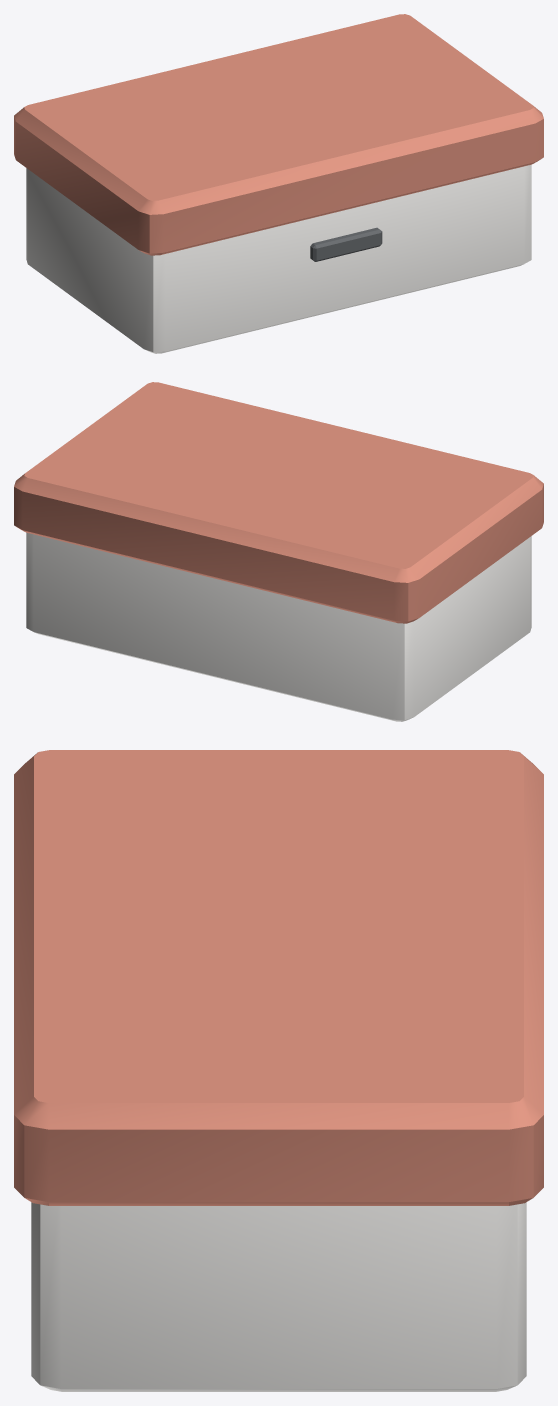
The picture shows the model from 3 angles, top to bottom: view 1: azimuth 30°, elevation 25°; view 2: azimuth 150°, elevation 25°; view 3: azimuth 270°, elevation 25°; orthographic projection. The views are drawn at different scales.
Visible parts, largest first — view 1: shoe-box; view 2: shoe-box; view 3: shoe-box.
Part boxes in pixels (<box>): shoe-box: <box>14,14,543,353</box>; shoe-box: <box>14,382,543,721</box>; shoe-box: <box>14,750,543,1391</box>.
Size of the model in its own units: 0.35 by 0.13 by 0.212.
